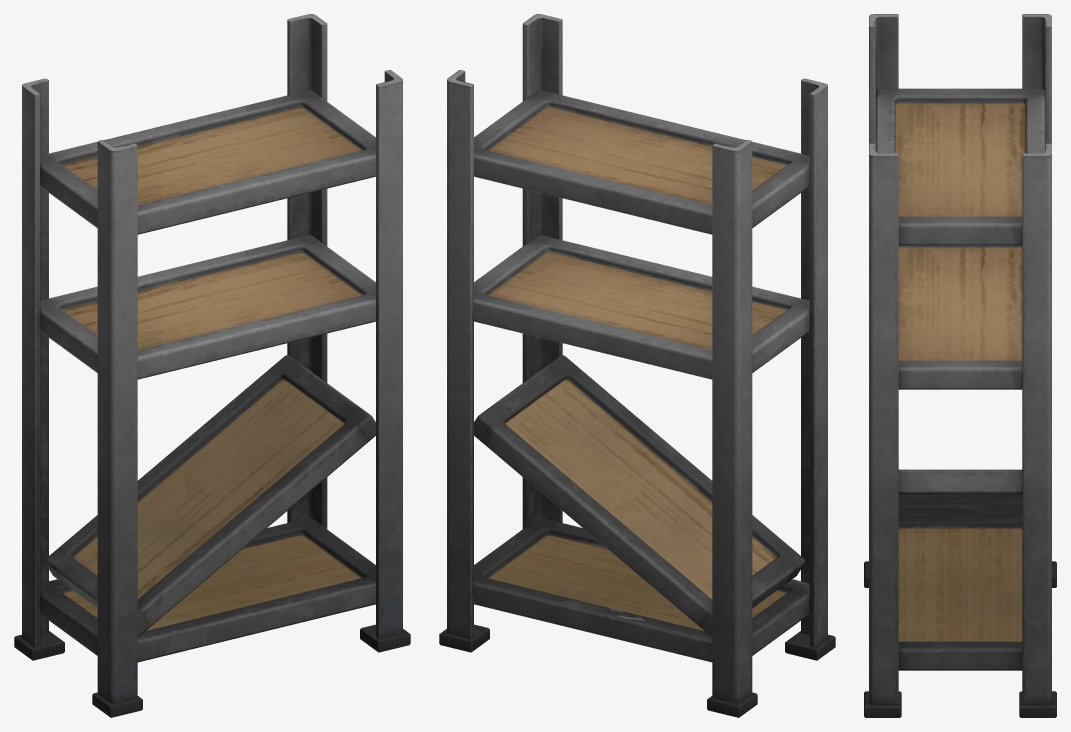
The model's file is MetalShelf4.fbx.
3 views of the same model, side by side, from view 1: azimuth 30°, elevation 25°; view 2: azimuth 150°, elevation 25°; view 3: azimuth 270°, elevation 25° (orthographic).
Visible parts, largest first — view 1: Sm_MetalShelf_04; view 2: Sm_MetalShelf_04; view 3: Sm_MetalShelf_04.
Part boxes in pixels (x1,y1,x2,y2): Sm_MetalShelf_04: (14,14,410,717); Sm_MetalShelf_04: (439,14,835,717); Sm_MetalShelf_04: (864,14,1056,717).
Bounding box in the file's own units: 74.73 × 134 × 41.72.
Materials: 1 (1 with a texture image).
